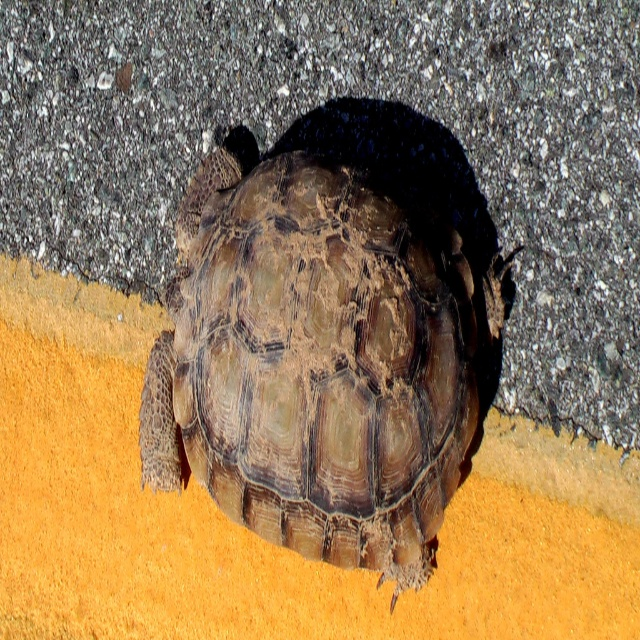Tortoise: (138, 146, 511, 616)
